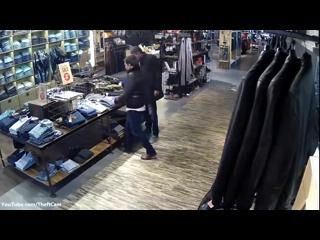Normal: (197, 46, 319, 208), (114, 55, 156, 160), (130, 46, 164, 142)
